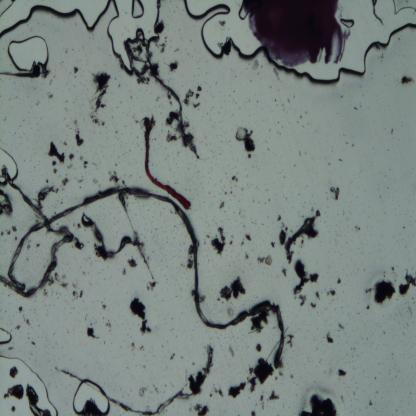Air bubble: (0, 0, 137, 78), (300, 13, 416, 90), (180, 0, 259, 67), (0, 352, 65, 415), (5, 36, 50, 72), (73, 375, 111, 415), (0, 150, 17, 186), (0, 0, 20, 20), (0, 324, 14, 345), (130, 1, 145, 20), (340, 16, 354, 29)
Anthropogenic: (142, 116, 192, 210)
Background material: (285, 206, 321, 264), (126, 296, 154, 334), (292, 256, 318, 296), (90, 67, 112, 114), (246, 358, 274, 392), (301, 391, 339, 416), (214, 273, 250, 298), (26, 379, 48, 416), (237, 125, 258, 158), (372, 278, 396, 306), (212, 222, 227, 260), (250, 309, 270, 335), (47, 141, 67, 165), (2, 382, 28, 400), (397, 271, 416, 295), (81, 323, 102, 342), (369, 0, 384, 26), (0, 189, 11, 219), (164, 109, 182, 127), (192, 400, 212, 416), (226, 383, 248, 397), (49, 271, 66, 288), (185, 241, 194, 272), (74, 121, 84, 147), (107, 170, 120, 187), (137, 71, 151, 86), (328, 185, 341, 201), (211, 382, 224, 398), (90, 113, 105, 126), (396, 76, 415, 86), (8, 364, 20, 379), (287, 332, 296, 349), (70, 288, 85, 298), (184, 88, 192, 106), (268, 390, 280, 402), (249, 58, 259, 72), (260, 394, 268, 411), (69, 240, 84, 249), (168, 61, 180, 72), (325, 330, 333, 346), (299, 292, 308, 306), (226, 304, 235, 318), (227, 343, 237, 355), (126, 255, 136, 267), (138, 383, 146, 398), (153, 22, 165, 32), (165, 132, 178, 141), (279, 232, 287, 246), (336, 368, 347, 378), (256, 343, 266, 354), (264, 253, 273, 265), (44, 88, 53, 100), (158, 41, 166, 54), (281, 264, 288, 278), (169, 350, 177, 362), (165, 92, 172, 105), (191, 100, 201, 109), (147, 281, 156, 291), (272, 68, 280, 79), (245, 231, 253, 242), (315, 289, 322, 300), (91, 175, 99, 184), (218, 19, 227, 27), (60, 179, 68, 188), (73, 63, 79, 74), (102, 300, 108, 311), (336, 274, 342, 285), (365, 286, 373, 294), (248, 408, 256, 416), (10, 224, 18, 232), (310, 302, 318, 310), (32, 240, 40, 248), (150, 384, 158, 392), (257, 257, 266, 264), (129, 341, 136, 350), (42, 287, 48, 297), (9, 406, 16, 414), (328, 288, 335, 296), (193, 91, 200, 99), (24, 316, 31, 324), (66, 154, 75, 160), (280, 221, 286, 230), (270, 240, 276, 248), (220, 200, 226, 208), (106, 321, 112, 329), (76, 222, 82, 230), (232, 175, 238, 183), (278, 370, 284, 378), (277, 213, 282, 222), (120, 268, 127, 274), (197, 86, 203, 93), (316, 209, 321, 217), (340, 394, 344, 404), (76, 178, 84, 183), (84, 161, 88, 170), (298, 148, 302, 157), (5, 230, 11, 236), (355, 225, 361, 231), (44, 177, 50, 183), (340, 322, 344, 331), (310, 206, 315, 213), (29, 340, 36, 345), (228, 238, 233, 245), (173, 47, 181, 51), (18, 305, 22, 313), (122, 180, 126, 188), (290, 372, 294, 380), (163, 34, 167, 42), (353, 105, 358, 111), (63, 106, 68, 112), (208, 392, 213, 398), (12, 235, 17, 241), (66, 163, 72, 168), (52, 160, 57, 166), (63, 139, 67, 146), (7, 346, 14, 350), (351, 142, 356, 147), (91, 161, 96, 166), (238, 210, 242, 216), (366, 304, 370, 310), (4, 115, 8, 121), (0, 230, 4, 236), (240, 240, 244, 246), (140, 344, 144, 350), (287, 96, 290, 104), (114, 161, 118, 167), (214, 80, 218, 86), (339, 157, 343, 163), (369, 400, 373, 406), (53, 168, 57, 174), (244, 252, 248, 258), (391, 127, 394, 134), (203, 238, 206, 245), (284, 226, 288, 231), (402, 224, 406, 229), (204, 135, 208, 140), (52, 332, 57, 336), (192, 361, 196, 366), (207, 234, 211, 239), (274, 96, 277, 102), (16, 327, 22, 330), (156, 96, 159, 102), (78, 156, 84, 159), (327, 162, 331, 166), (230, 235, 234, 239), (8, 96, 12, 100), (179, 356, 184, 359), (269, 84, 272, 89), (248, 154, 251, 159), (223, 191, 226, 196), (56, 188, 59, 193), (60, 200, 63, 205), (376, 390, 379, 394), (283, 176, 286, 180), (284, 197, 287, 201), (268, 198, 271, 202), (111, 115, 114, 119), (232, 90, 236, 93), (64, 173, 67, 177), (392, 265, 394, 271), (118, 84, 121, 88), (36, 102, 39, 106), (28, 243, 30, 249), (55, 366, 58, 370), (160, 258, 163, 262), (130, 93, 132, 99), (245, 174, 248, 178), (136, 119, 138, 124), (22, 119, 25, 122), (64, 117, 67, 120), (238, 107, 241, 110), (229, 95, 232, 98), (175, 295, 178, 298), (230, 191, 233, 194), (16, 95, 18, 99), (66, 124, 68, 128), (266, 188, 268, 192), (228, 140, 232, 142), (375, 376, 377, 380), (204, 144, 208, 146), (129, 148, 131, 152), (275, 377, 277, 381), (66, 99, 68, 103), (300, 114, 302, 118), (243, 224, 245, 228), (264, 202, 266, 205), (8, 294, 10, 297), (293, 164, 296, 166), (40, 117, 42, 120), (122, 153, 124, 156), (297, 121, 299, 124), (268, 148, 270, 151), (201, 140, 203, 143), (19, 136, 22, 138), (79, 186, 82, 188), (170, 318, 173, 320), (130, 174, 132, 177), (136, 135, 138, 138), (219, 153, 222, 155), (341, 95, 343, 98), (256, 100, 258, 103), (115, 131, 118, 133), (346, 142, 349, 144), (242, 188, 244, 191), (250, 79, 252, 82), (208, 191, 210, 194), (197, 108, 200, 110), (206, 113, 209, 115), (183, 242, 185, 245), (249, 98, 250, 104), (173, 182, 176, 184), (279, 132, 281, 134), (73, 101, 75, 103), (4, 310, 6, 312), (118, 156, 120, 158), (19, 124, 21, 126), (262, 223, 264, 225), (224, 210, 226, 212), (181, 264, 183, 266), (235, 102, 237, 104), (27, 139, 29, 141), (221, 140, 223, 142), (15, 132, 17, 134), (139, 176, 141, 178), (97, 166, 98, 170), (132, 116, 134, 118), (169, 284, 171, 286), (212, 106, 214, 108), (210, 150, 212, 152), (189, 189, 191, 191), (303, 125, 304, 128), (278, 121, 279, 124), (233, 99, 234, 102), (218, 112, 221, 113), (165, 266, 168, 267), (185, 188, 186, 191), (124, 126, 126, 127), (253, 201, 255, 202), (135, 162, 137, 163), (106, 127, 107, 129), (252, 222, 253, 224), (115, 136, 116, 138), (249, 115, 251, 116), (198, 170, 199, 172), (188, 168, 189, 170), (177, 182, 178, 184), (166, 279, 168, 280), (118, 139, 118, 140)
Cellulose filter fibre: (0, 165, 290, 369), (58, 361, 215, 416), (144, 35, 199, 158), (83, 213, 145, 261)
Pen: (241, 0, 348, 67)
